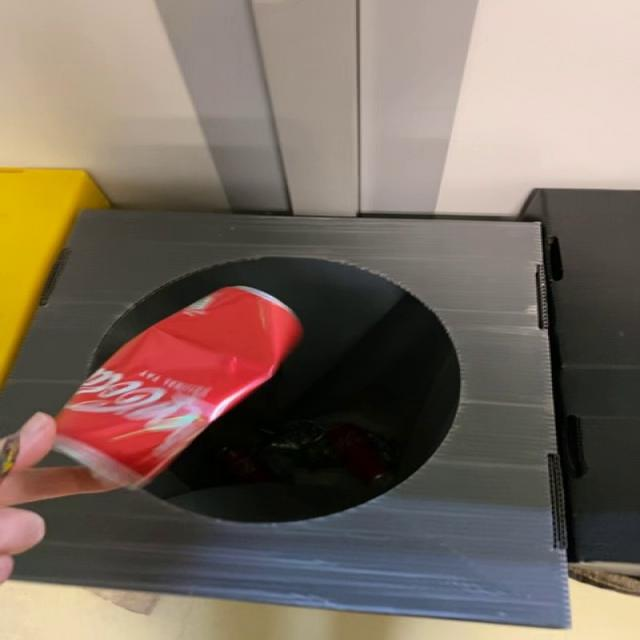bin: (3, 210, 571, 628)
metal: (56, 286, 301, 488)
